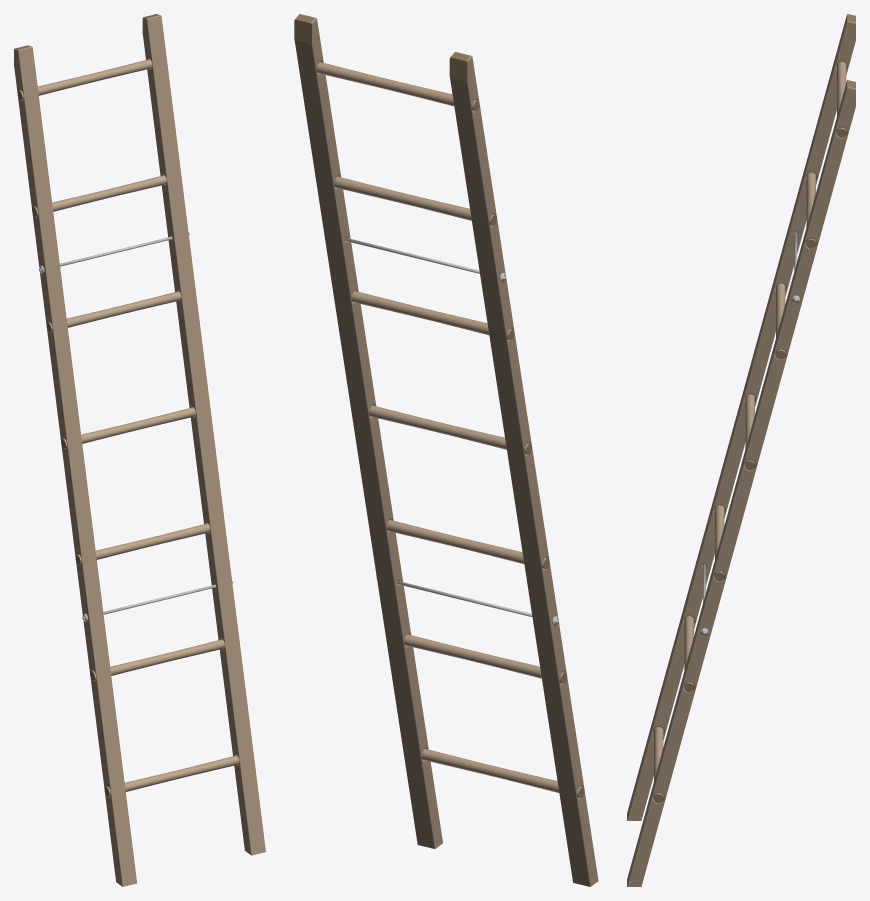
File: staff-ladder.glb
The picture shows the model from 3 angles, left to right: view 1: azimuth 30°, elevation 25°; view 2: azimuth 150°, elevation 25°; view 3: azimuth 270°, elevation 25°; orthographic projection. The views are drawn at different scales.
Visible parts, largest first — view 1: Wooden staff ladder; view 2: Wooden staff ladder; view 3: Wooden staff ladder.
Part boxes in pixels (left/top/right/bottom): Wooden staff ladder: left=14, top=14, right=265, bottom=886; Wooden staff ladder: left=294, top=14, right=598, bottom=886; Wooden staff ladder: left=627, top=14, right=855, bottom=886.
Bounding box in the file's own units: 1.44 × 7 × 1.82.
